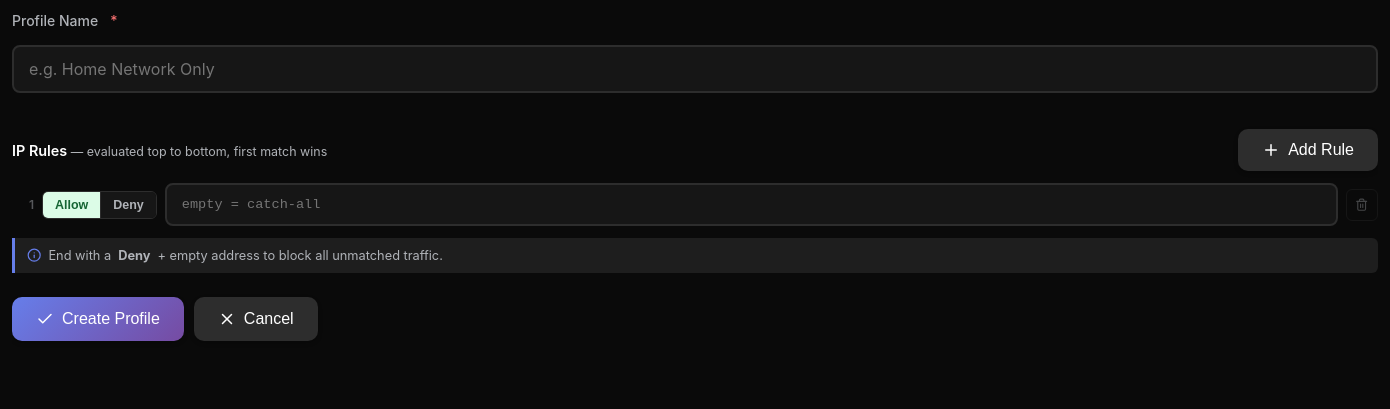
Scenario: AclProfileForm — rule management › Add Rule button appends a new rule row
Step 1. Click the button "Add Rule" → [1308, 150], box [1238, 129, 1378, 171]
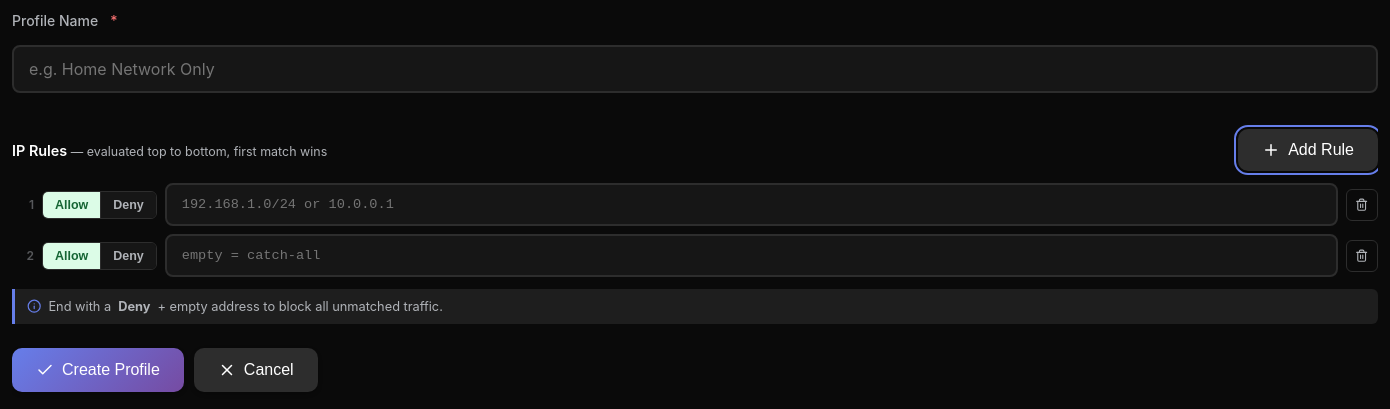
Result: the number of buttons named "remove rule" is 2 at [1346, 188, 1378, 220]; [1346, 240, 1378, 272]
